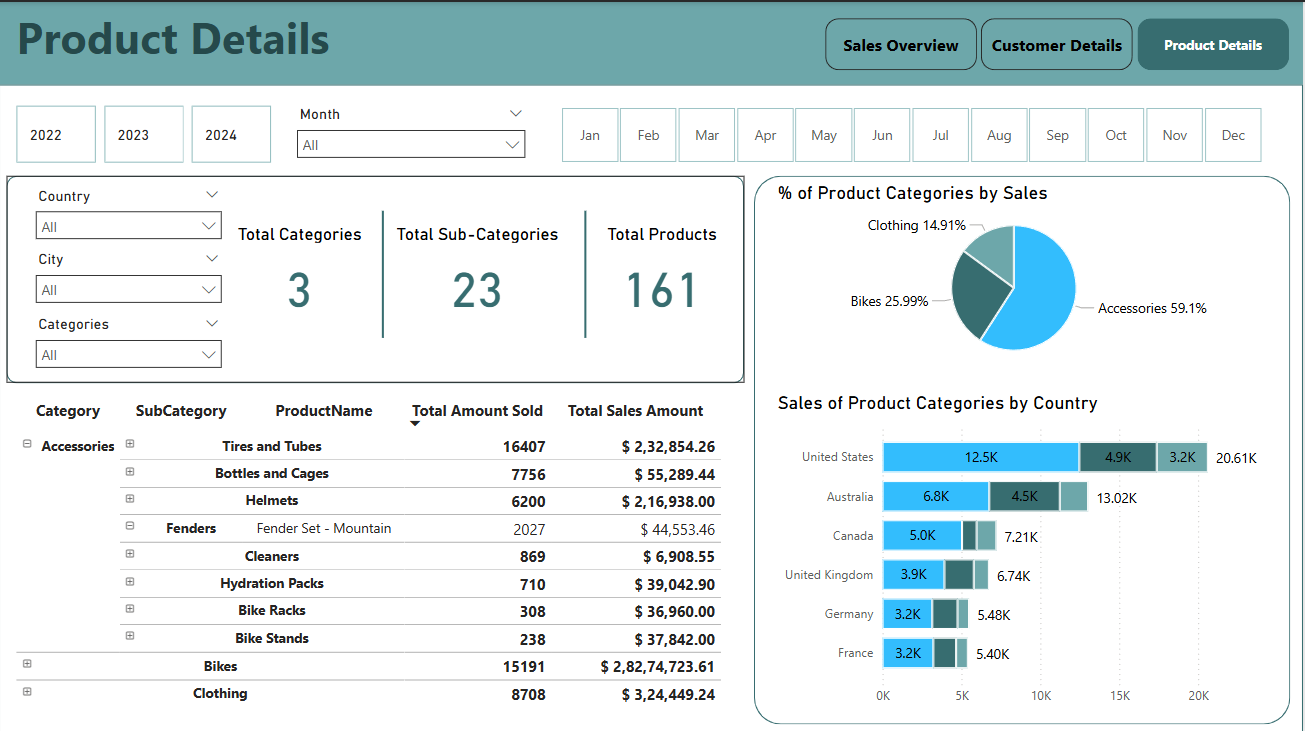

The page's visual inventory and layout, read from the dashboard file:
{"tool":"powerbi","page":{"name":"Product Details","canvas":[1280,720],"ordinal":2},"visuals":[{"type":"shape","box":[0,81.2,1280,638.8],"z":0},{"type":"shape","box":[741.1,170.6,526.4,538.7],"z":1000},{"type":"shape","box":[7.4,170.6,723.9,203.7],"z":2000},{"type":"textbox","box":[12.3,0,368.1,81],"z":3000},{"type":"card","title":"Total Products","fields":{"Values":["Count(Product.ProductName)"]},"box":[590,217.5,121.2,100],"z":4000},{"type":"slicer","fields":{"Values":["Product.Category"]},"box":[25.8,303.1,202.5,61.4],"z":5000},{"type":"advancedSlicerVisual","fields":{"Values":["Date.Year"]},"box":[12.3,96.9,260.1,66.3],"z":6000},{"type":"card","title":"Total Sub-Categories","fields":{"Values":["Count(Product.SubCategory)"]},"box":[382.5,217.5,173.8,100],"z":7000},{"type":"slicer","fields":{"Values":["Date.MonthShort"]},"box":[526.7,96.7,736.7,66.7],"z":8000},{"type":"barChart","title":"Sales of Product Categories by Country","fields":{"Category":["Customer.Country"],"Series":["Product.Category"],"Y":["CountNonNull(Sales.SalesOrderNumber)"]},"box":[759.5,382.8,492,316.6],"z":9000},{"type":"pivotTable","title":"Total Revenue per Year by Country","fields":{"Rows":["Product.Category","Product.SubCategory","Product.ProductName"],"Values":["CountNonNull(Sales.SalesOrderNumber)","Sum(Sales.SalesAmount)"]},"box":[12.3,382.8,719,326.4],"z":10000},{"type":"pieChart","title":"% of Product Categories by Sales","fields":{"Y":["CountNonNull(Sales.SalesOrderNumber)"],"Category":["Product.Category"]},"box":[760,176.2,473.8,187.5],"z":11000},{"type":"slicer","fields":{"Values":["Customer.Country"]},"box":[25.8,176.7,202.5,61.4],"z":12000},{"type":"card","title":"Total Categories","fields":{"Values":["Count(Product.Category)"]},"box":[228.8,217.5,133.8,100],"z":13000},{"type":"shape","box":[370,205,12.5,125],"z":14000},{"type":"shape","box":[568.8,205,12.5,125],"z":15000},{"type":"pageNavigator","box":[811,16,456.4,51.5],"z":15002},{"type":"slicer","fields":{"Values":["Date.Month"]},"box":[282.2,96.9,244.2,66.3],"z":15003},{"type":"slicer","fields":{"Values":["Customer.City"]},"box":[25.8,239.3,202.5,61.4],"z":15004}]}

Visuals, with their boxes in screenshot pixels (x1, y1, x2, y2), scaled from the page's 1280x720 canvas onto the 1305x731 screenshot:
shape: Rect(0, 82, 1304, 730)
shape: Rect(756, 173, 1292, 720)
shape: Rect(8, 173, 746, 380)
textbox: Rect(13, 0, 388, 82)
"Total Products" card: Rect(602, 221, 725, 322)
slicer - Product.Category: Rect(26, 308, 233, 370)
advancedSlicerVisual - Date.Year: Rect(13, 98, 278, 166)
"Total Sub-Categories" card: Rect(390, 221, 567, 322)
slicer - Date.MonthShort: Rect(537, 98, 1288, 166)
"Sales of Product Categories by Country" barChart: Rect(774, 389, 1276, 710)
"Total Revenue per Year by Country" pivotTable: Rect(13, 389, 746, 720)
"% of Product Categories by Sales" pieChart: Rect(775, 179, 1258, 369)
slicer - Customer.Country: Rect(26, 179, 233, 242)
"Total Categories" card: Rect(233, 221, 370, 322)
shape: Rect(377, 208, 390, 335)
shape: Rect(580, 208, 593, 335)
pageNavigator: Rect(827, 16, 1292, 69)
slicer - Date.Month: Rect(288, 98, 537, 166)
slicer - Customer.City: Rect(26, 243, 233, 305)
